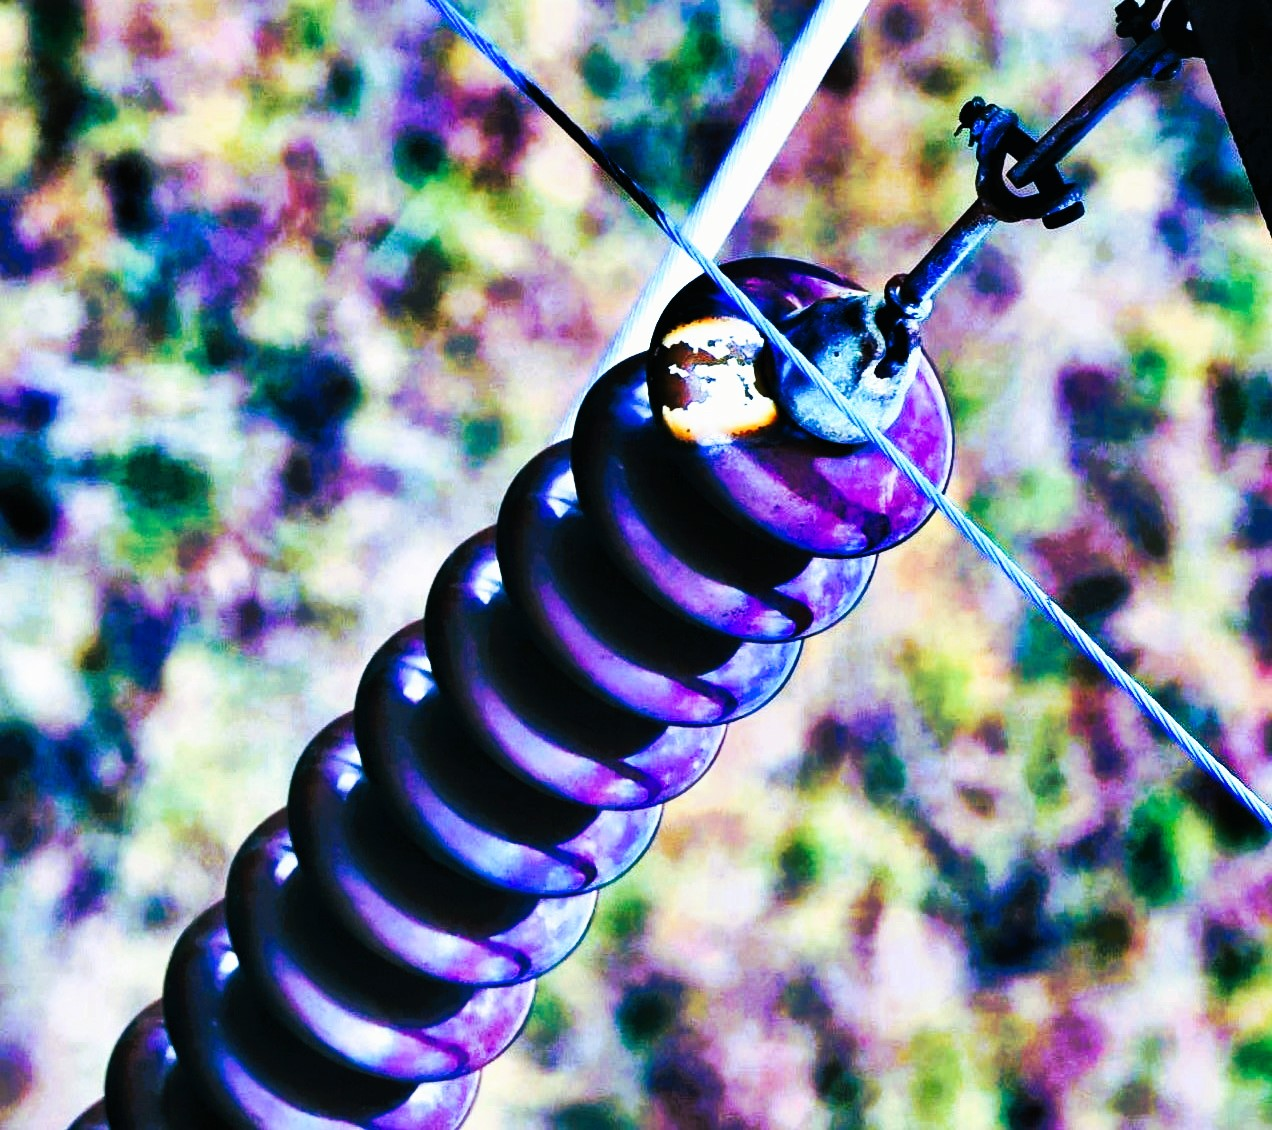Insulator flashover: (621, 227, 973, 572)
